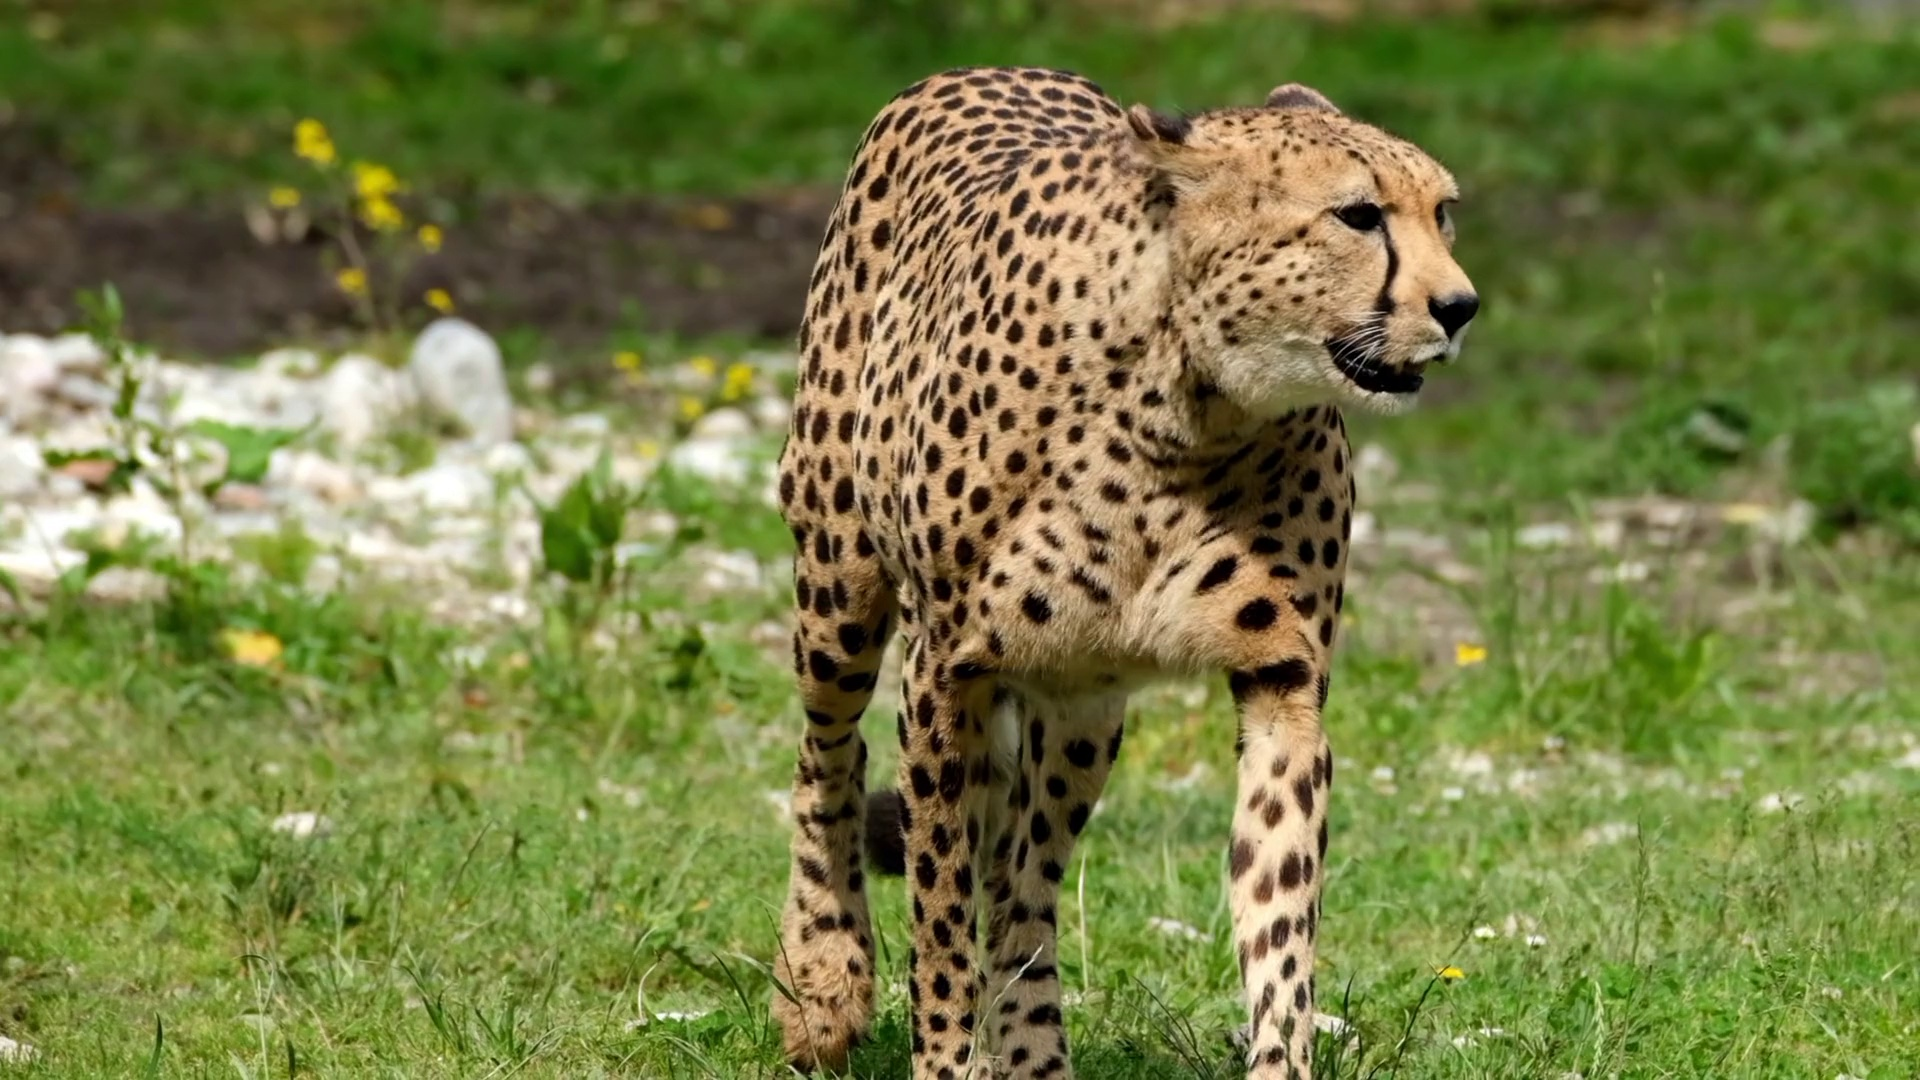Cheetah: (764, 57, 1485, 1080)
